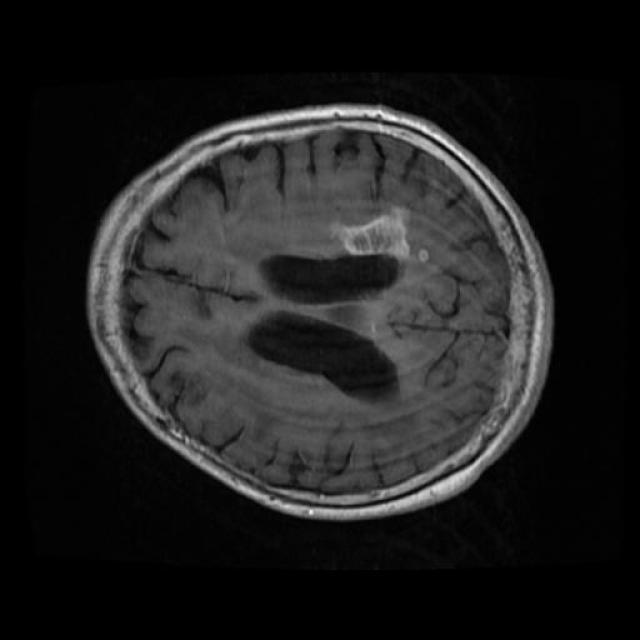Glioma: (332, 208, 409, 259)
